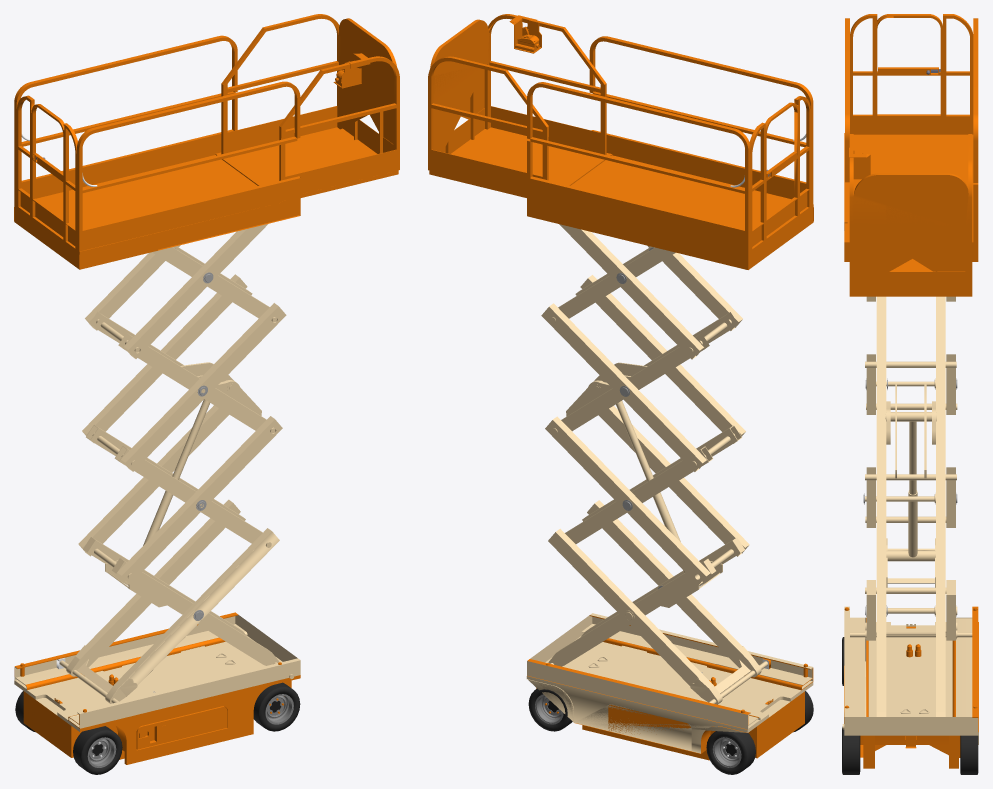
File: Scissor+lift.fbx
3 views of the same model, side by side, from view 1: azimuth 30°, elevation 25°; view 2: azimuth 150°, elevation 25°; view 3: azimuth 270°, elevation 25° (orthographic). The views are drawn at different scales.
Parts seen in each view (by area): view 1: Group4, Group1, Group11, Group6, Group3, Group5, Group2, Group16, Group22; view 2: Group4, Group1, Group11, Group6, Group2, Group5, Group3, Group19; view 3: Group4, Group11, Group1, Group6, Group5, Group22, Group13, Group2, Group3, Pin_BO_PP_25_m6____Art__No___035001_1, Pin_BO_PP_25_m6____Art__No___035001, Pin_BO_PP_25_m6____Art__No___035001_2.
Boxes of the visible parts, left/top/right/bottom form: Group4: left=14, top=14, right=399, bottom=269; Group1: left=21, top=134, right=282, bottom=703; Group11: left=14, top=612, right=300, bottom=764; Group6: left=83, top=399, right=294, bottom=679; Group3: left=121, top=303, right=286, bottom=471; Group5: left=89, top=311, right=276, bottom=433; Group2: left=82, top=274, right=247, bottom=442; Group16: left=73, top=726, right=122, bottom=774; Group22: left=253, top=682, right=300, bottom=731; Group4: left=428, top=14, right=813, bottom=269; Group1: left=545, top=134, right=806, bottom=704; Group11: left=526, top=613, right=813, bottom=760; Group6: left=548, top=401, right=744, bottom=666; Group2: left=541, top=303, right=706, bottom=471; Group5: left=552, top=312, right=738, bottom=434; Group3: left=580, top=275, right=745, bottom=443; Group19: left=706, top=731, right=755, bottom=774; Group4: left=844, top=14, right=978, bottom=296; Group11: left=844, top=606, right=978, bottom=768; Group1: left=850, top=296, right=972, bottom=657; Group6: left=842, top=421, right=945, bottom=729; Group5: left=865, top=379, right=956, bottom=492; Group22: left=842, top=727, right=860, bottom=774; Group13: left=960, top=735, right=978, bottom=774; Group2: left=946, top=354, right=955, bottom=414; Group3: left=866, top=354, right=875, bottom=414; Pin_BO_PP_25_m6____Art__No___035001_1: left=865, top=493, right=957, bottom=504; Pin_BO_PP_25_m6____Art__No___035001: left=886, top=605, right=957, bottom=616; Pin_BO_PP_25_m6____Art__No___035001_2: left=876, top=378, right=957, bottom=389.
Bounding box in the file's own units: 5811 × 11105 × 2080.
